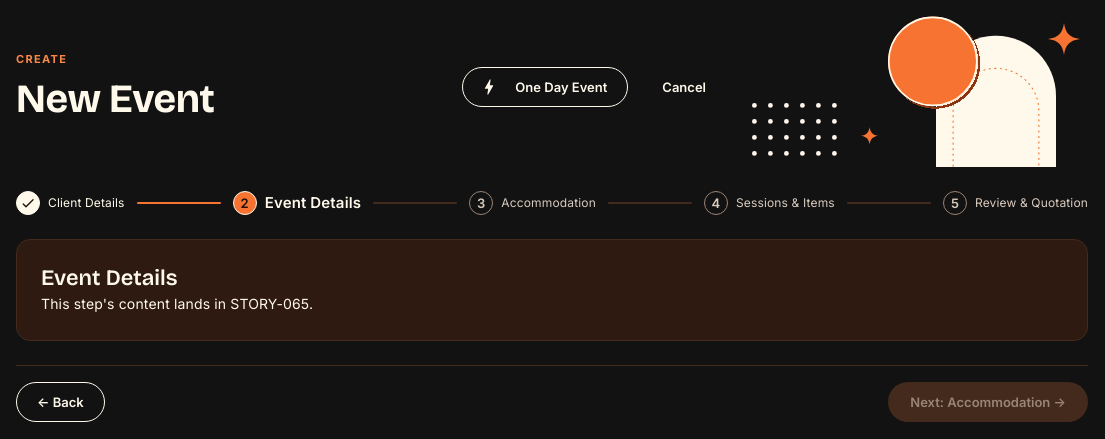
Scenario: EventWizardShell — footer Back/Next › Steps 2-5 show a Back button that returns to the previous step
Click the button "← Back".
click(60, 402)  # box 16,382 -> 105,422
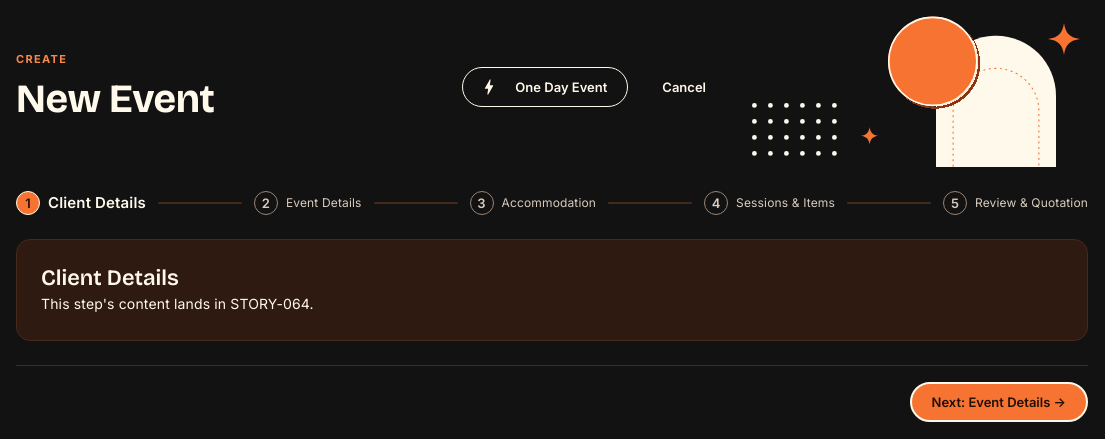
Expected: the text "This step's content lands in STORY-064." is shown, 41,295 -> 314,312
